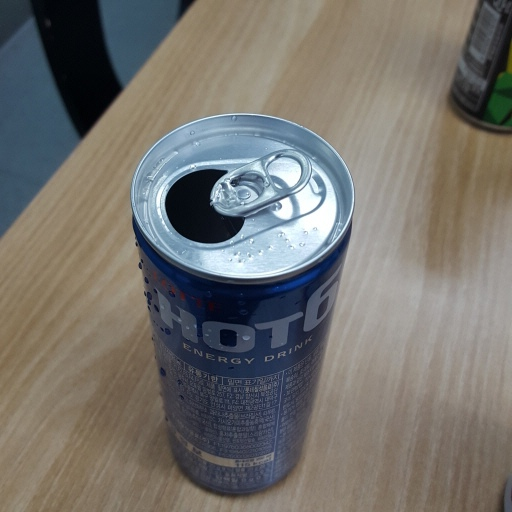Metal_0: (129, 110, 359, 497)
